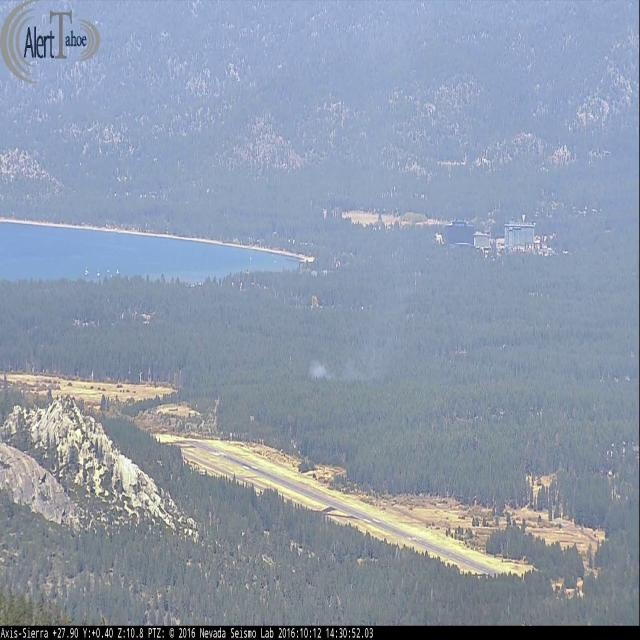smoke: (302, 325, 410, 387)
